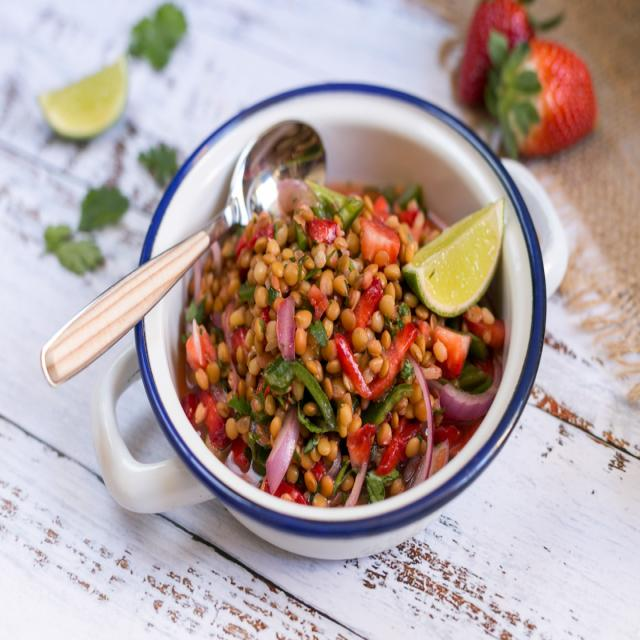garbanzos: (162, 166, 516, 527)
